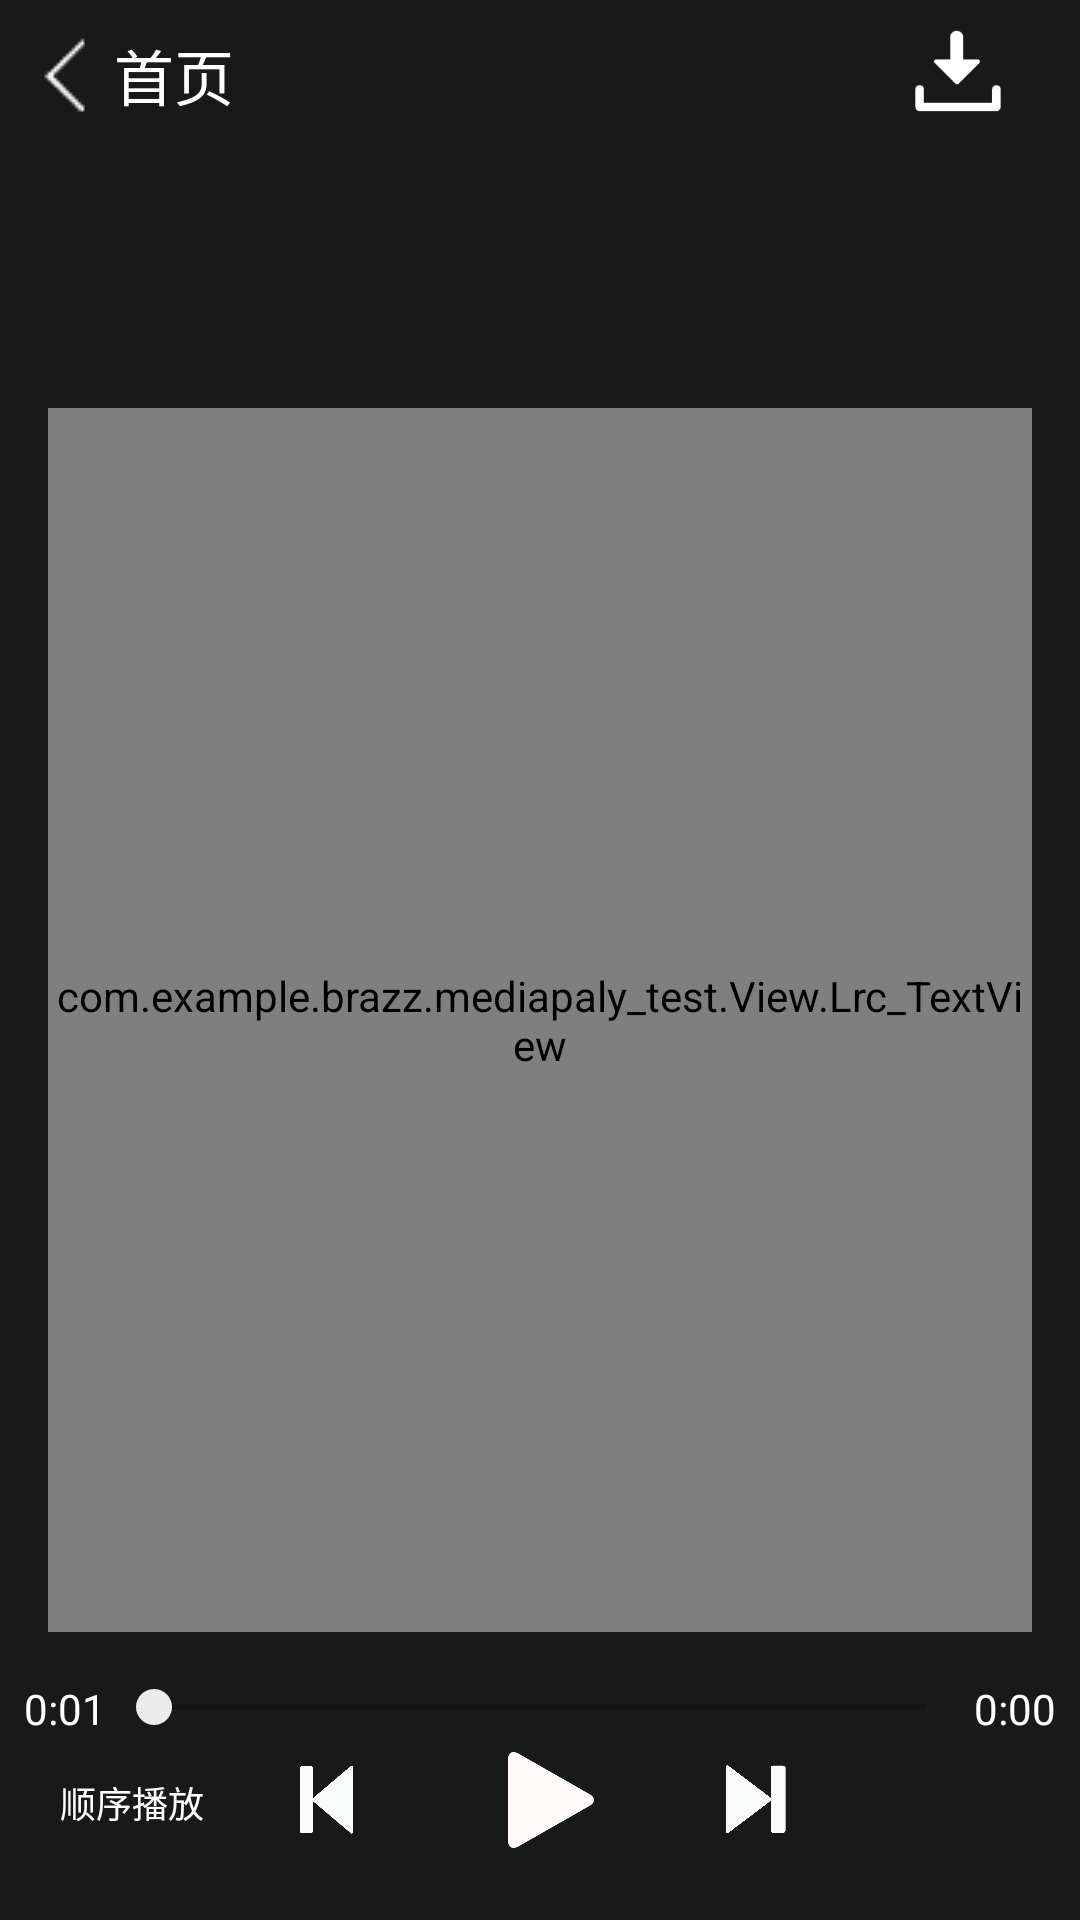

Where icons sit on this 1080w x 1920h app screen, as detection(x1, y1, x2, y2):
back: detection(44, 38, 85, 112)
download: detection(915, 30, 1001, 112)
play: detection(508, 1752, 594, 1848)
